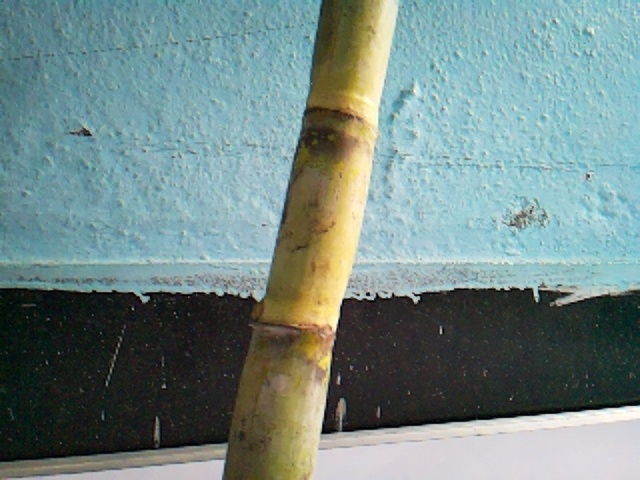Good Sugarcane: (219, 0, 401, 474)
Node: (243, 279, 340, 351), (294, 84, 381, 149)
